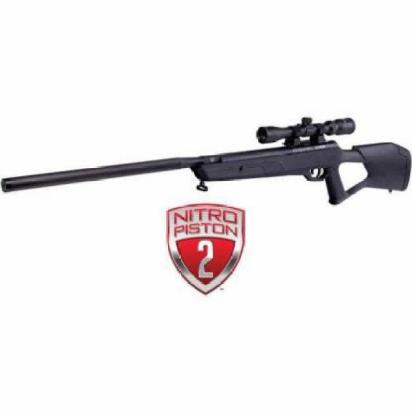Gun: (0, 104, 408, 232)
